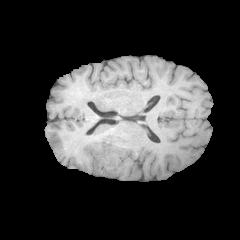glioma: (90, 138, 135, 179)
